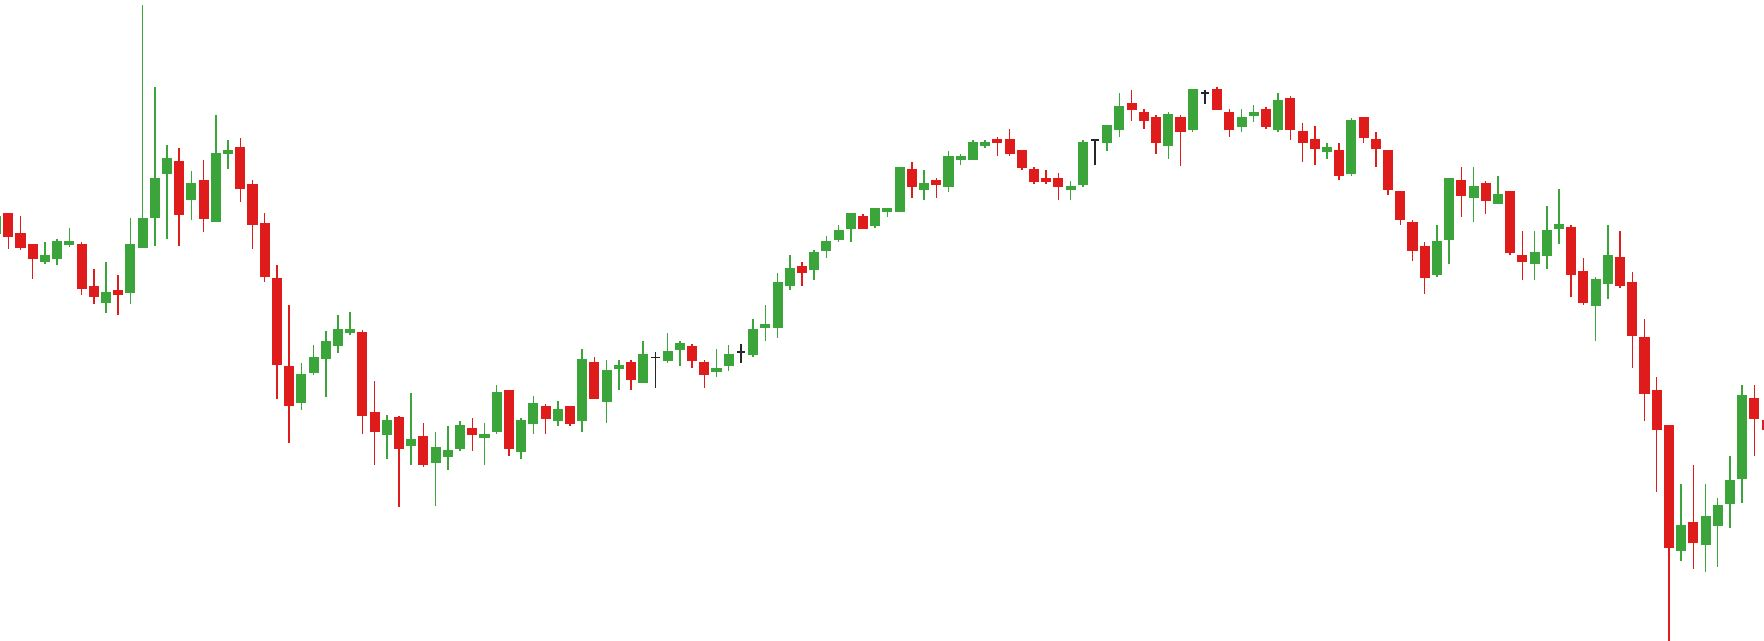sell: (1111, 88, 1222, 143)
